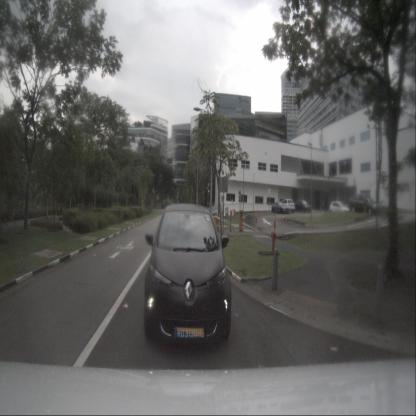vehicle-car: (144, 203, 232, 343), (348, 193, 382, 217), (329, 201, 350, 215), (271, 201, 290, 214), (279, 199, 295, 213), (294, 199, 311, 212)
